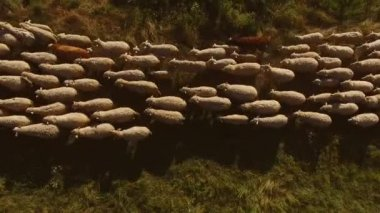sheep: (17, 118, 65, 149), (32, 57, 85, 80), (67, 94, 121, 116), (97, 65, 163, 81), (1, 23, 43, 48), (221, 83, 268, 105), (93, 106, 142, 127), (270, 86, 316, 108), (118, 79, 164, 101), (52, 41, 105, 60), (231, 95, 281, 115), (286, 54, 330, 76), (44, 106, 90, 127), (61, 28, 103, 51), (108, 122, 146, 147), (185, 85, 231, 105), (194, 94, 233, 117), (13, 70, 62, 88), (139, 39, 188, 57), (34, 85, 80, 104), (194, 41, 234, 62), (95, 35, 138, 54), (73, 124, 121, 141), (174, 54, 214, 74), (293, 107, 331, 128), (81, 51, 117, 73), (254, 111, 288, 133), (1, 56, 36, 77), (154, 96, 202, 111), (317, 64, 356, 82), (1, 91, 32, 113), (67, 75, 101, 95), (210, 56, 248, 73), (143, 111, 199, 122), (284, 41, 315, 60), (297, 31, 328, 50), (224, 56, 255, 75), (123, 54, 167, 67), (321, 41, 351, 59), (23, 104, 68, 116), (1, 115, 34, 131), (321, 99, 356, 114), (348, 111, 380, 127), (342, 76, 375, 91), (335, 91, 365, 104)
